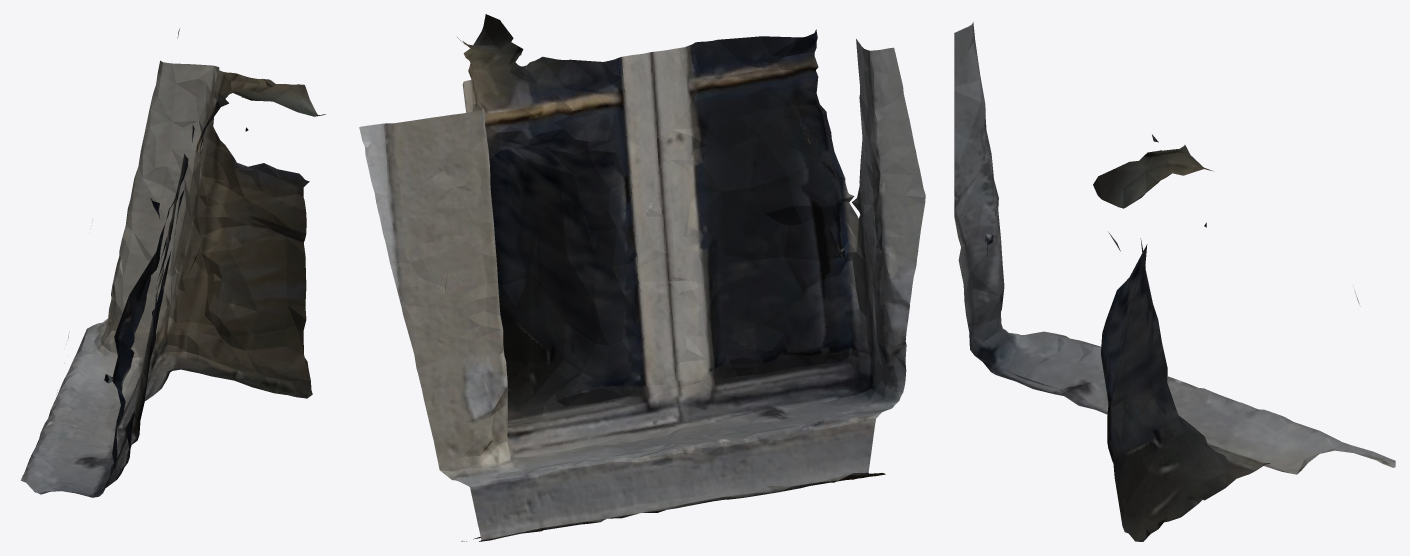
3 views of the same model, side by side, from view 1: azimuth 30°, elevation 25°; view 2: azimuth 150°, elevation 25°; view 3: azimuth 270°, elevation 25° (orthographic). The views are drawn at different scales.
Size of the model in its own units: 0.8373 by 0.8374 by 0.8374.
Materials: 5 (5 with a texture image).
